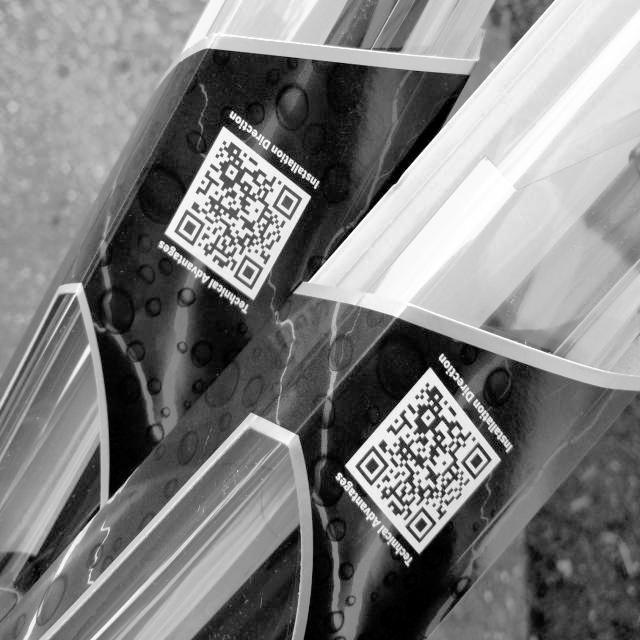qr_code: (347, 361, 499, 555), (163, 113, 314, 307)
